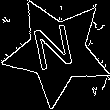N_S: (32, 22, 82, 80)
